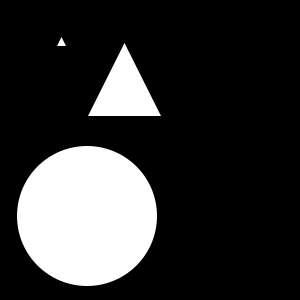rectangle: (17, 146, 157, 286)
triangle: (88, 43, 161, 116), (57, 37, 66, 46)
